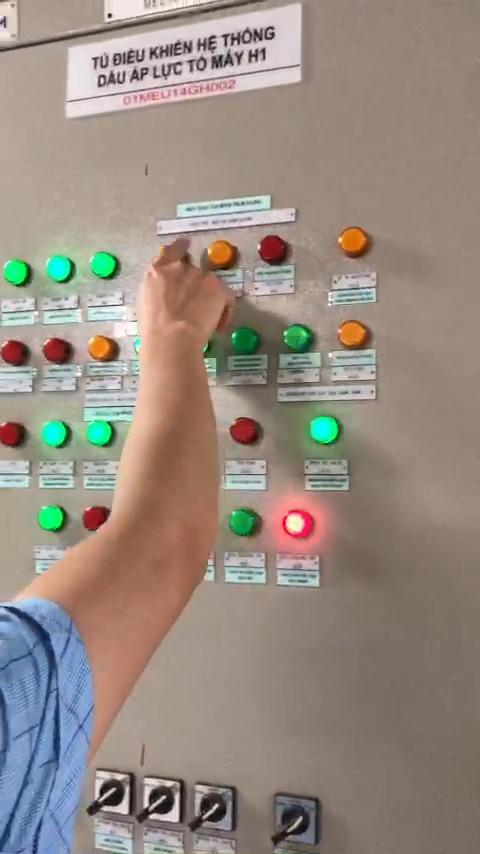led: (283, 506, 319, 543), (337, 226, 373, 261), (334, 315, 370, 349), (258, 233, 295, 266), (230, 415, 264, 450), (227, 505, 261, 540), (38, 416, 72, 450), (0, 334, 33, 368), (308, 412, 341, 445), (280, 322, 311, 355), (89, 249, 120, 281), (80, 503, 112, 534), (204, 240, 238, 269), (88, 334, 119, 365), (87, 419, 118, 450), (229, 328, 260, 356), (45, 334, 73, 365), (43, 256, 72, 285), (37, 502, 64, 532), (2, 255, 28, 286), (3, 419, 28, 450)
twist: (273, 794, 321, 845), (93, 770, 134, 816), (197, 782, 235, 830), (144, 778, 180, 824)
